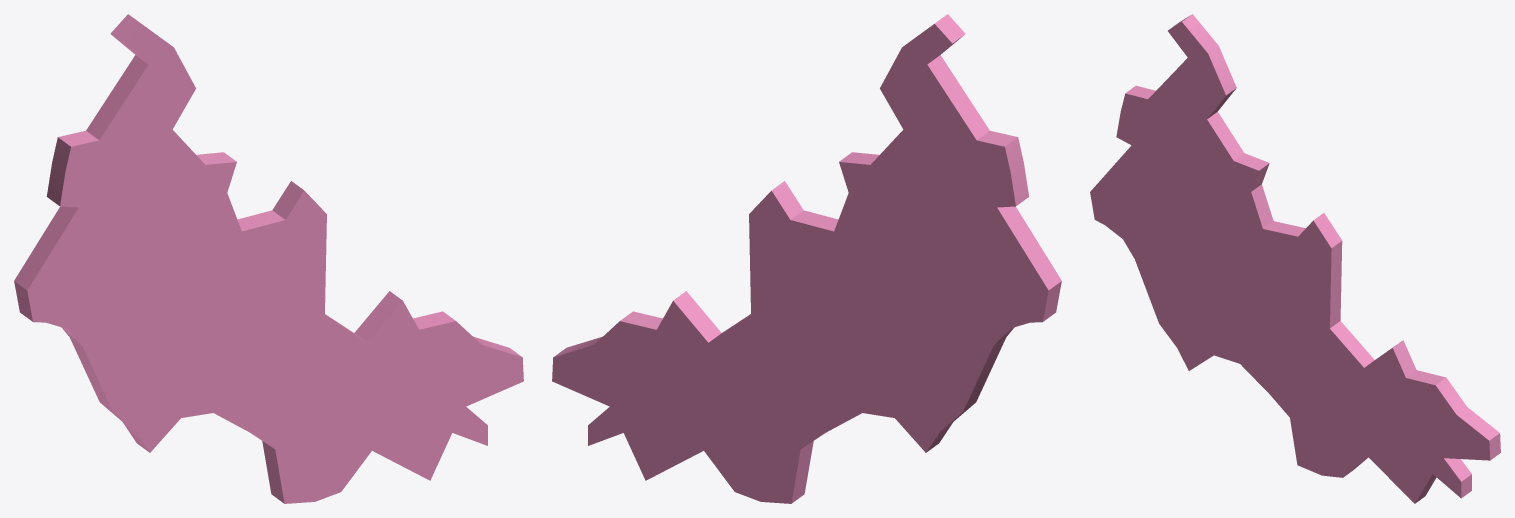
Rendered from el_oro.fbx.
3 renders of one model, left to right at view 1: azimuth 30°, elevation 25°; view 2: azimuth 150°, elevation 25°; view 3: azimuth 330°, elevation 25°, orthographic. The views are drawn at different scales.
Parts seen in each view (by area): view 1: el_oro; view 2: el_oro; view 3: el_oro.
Boxes of the visible parts, bbox=[...] form: el_oro: bbox=[14, 14, 523, 503]; el_oro: bbox=[552, 14, 1061, 503]; el_oro: bbox=[1090, 14, 1500, 503].
Bounding box in the file's own units: 173 × 176 × 8.
